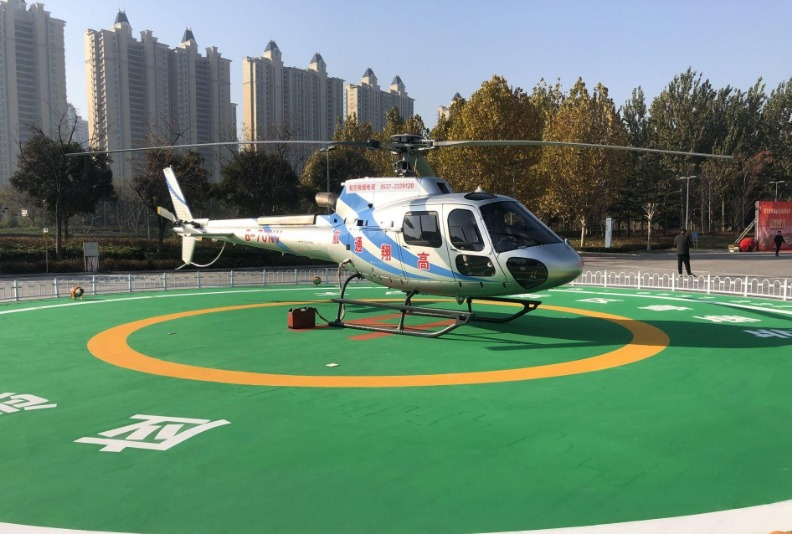Apron: (84, 295, 671, 390)
